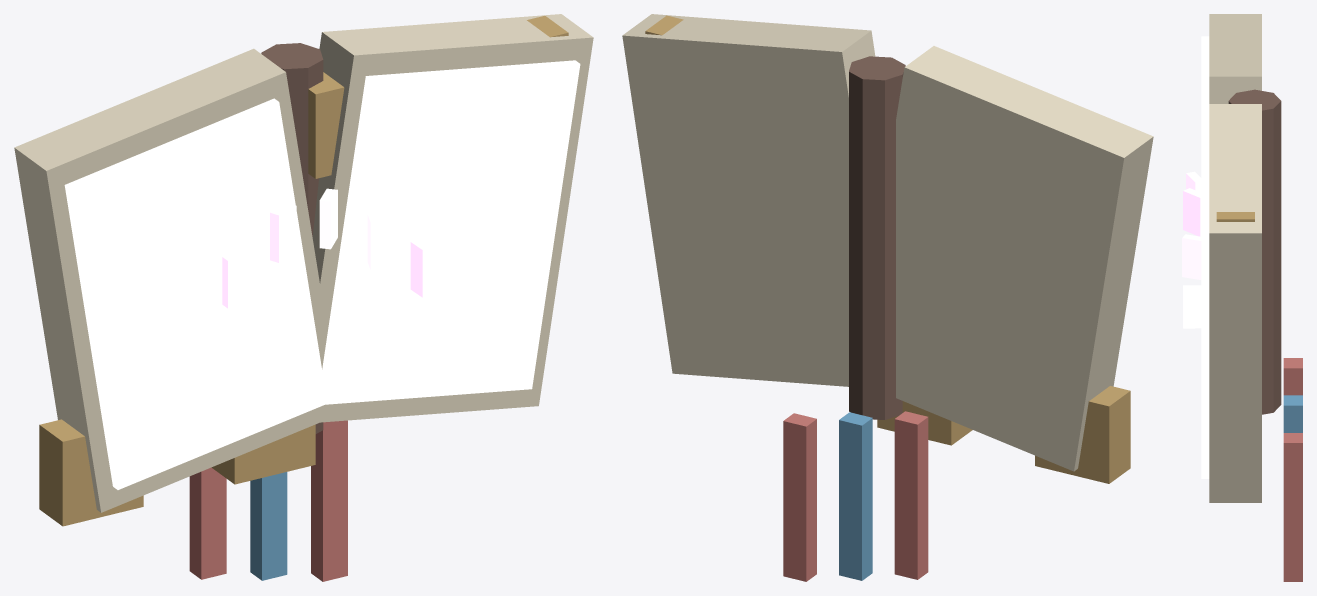
Rendered from arcane_spellbook_open.glb.
3 views of the same model, side by side, from view 1: azimuth 30°, elevation 25°; view 2: azimuth 150°, elevation 25°; view 3: azimuth 270°, elevation 25° (orthographic). The views are drawn at different scales.
Parts seen in each view (by area): view 1: GlowingPage_1, GlowingPage_-1, PageBlock_-1, PageBlock_1, Bookmark_2.001, Corner_-1_-0.42, Bookmark_0.001, Bookmark_1.001, Spine.001, Corner_-1_-0.08, Corner_1_0.08, Glyph_0 (+4 smaller); view 2: PageBlock_-1, PageBlock_1, Spine.001, Bookmark_0.001, Bookmark_1.001, Bookmark_2.001, Corner_-1_-0.42, Corner_-1_-0.08; view 3: PageBlock_1, Spine.001, PageBlock_-1, GlowingPage_1, Bookmark_2.001, Glyph_3, Glyph_2, Glyph_4, GlowingPage_-1, Bookmark_1.001, Bookmark_0.001, Corner_1_0.42 (+1 smaller).
Part boxes in pixels (x1,y1,x2,y2): GlowingPage_1: (322,60,580,404); GlowingPage_-1: (64,98,327,489); PageBlock_-1: (14,48,340,512); PageBlock_1: (312,14,593,422); Bookmark_2.001: (311,420,347,581); Corner_-1_-0.42: (39,419,143,526); Bookmark_0.001: (189,467,226,579); Bookmark_1.001: (250,472,287,580); Spine.001: (261,43,323,433); Corner_-1_-0.08: (211,424,315,484); Corner_1_0.08: (308,72,344,178); Glyph_0: (222,250,253,308); PageBlock_-1: (896,46,1153,471); PageBlock_1: (622,14,875,386); Spine.001: (849,56,905,419); Bookmark_0.001: (894,411,928,579); Bookmark_1.001: (839,412,872,580); Bookmark_2.001: (783,413,816,581); Corner_-1_-0.42: (1035,386,1130,483); Corner_-1_-0.08: (877,401,972,445); PageBlock_1: (1209,104,1261,502); Spine.001: (1228,89,1281,414); PageBlock_-1: (1209,14,1261,103); GlowingPage_1: (1201,128,1209,478); Bookmark_2.001: (1283,433,1302,581); Glyph_3: (1182,234,1201,279); Glyph_2: (1183,188,1201,236); Glyph_4: (1183,285,1201,328); GlowingPage_-1: (1201,36,1209,127); Bookmark_1.001: (1283,395,1302,432); Bookmark_0.001: (1283,358,1302,395); Corner_1_0.42: (1216,212,1254,221).
Bounding box in the file's own units: 1.08 × 1.06 × 0.2519.
